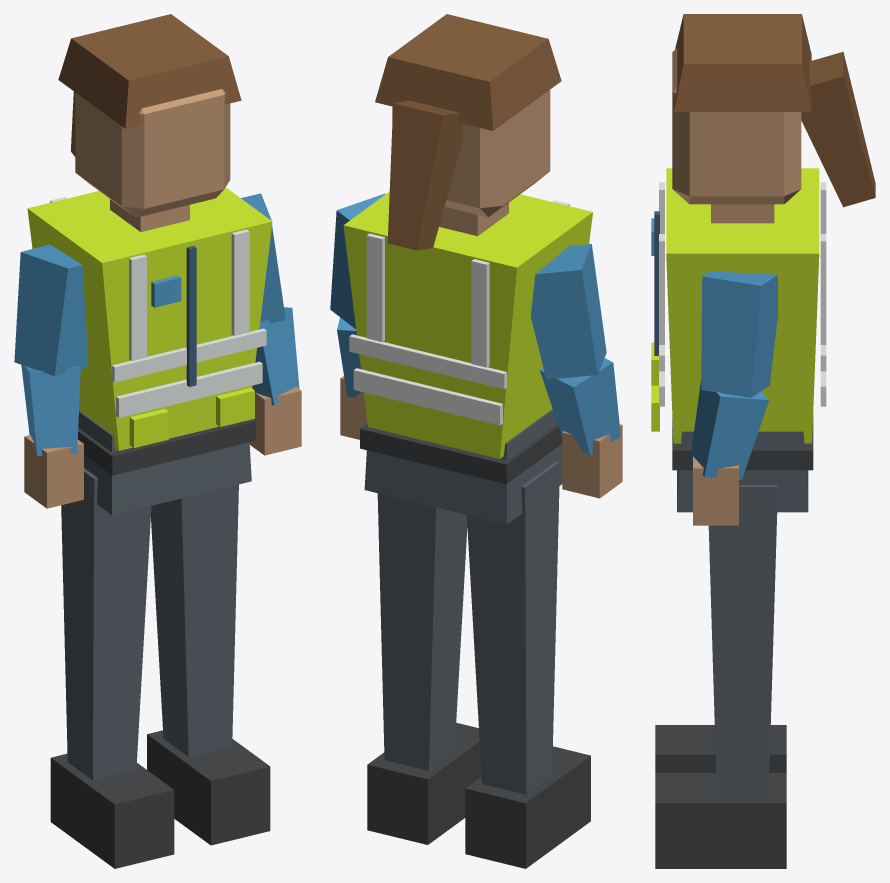
Rendered from Municipal_Worker_02_Lime_Vest.fbx.
The picture shows the model from 3 angles, left to right: view 1: azimuth 30°, elevation 25°; view 2: azimuth 150°, elevation 25°; view 3: azimuth 270°, elevation 25°; orthographic projection. The views are drawn at different scales.
Visible parts, largest first — view 1: Municipal_Worker_02_Lime_Vest_Mesh; view 2: Municipal_Worker_02_Lime_Vest_Mesh; view 3: Municipal_Worker_02_Lime_Vest_Mesh.
Part boxes in pixels (left/top/right/bottom): Municipal_Worker_02_Lime_Vest_Mesh: left=14, top=14, right=301, bottom=868; Municipal_Worker_02_Lime_Vest_Mesh: left=330, top=14, right=622, bottom=868; Municipal_Worker_02_Lime_Vest_Mesh: left=651, top=14, right=875, bottom=868.
Size of the model in its own units: 60.67 by 170 by 43.69.
